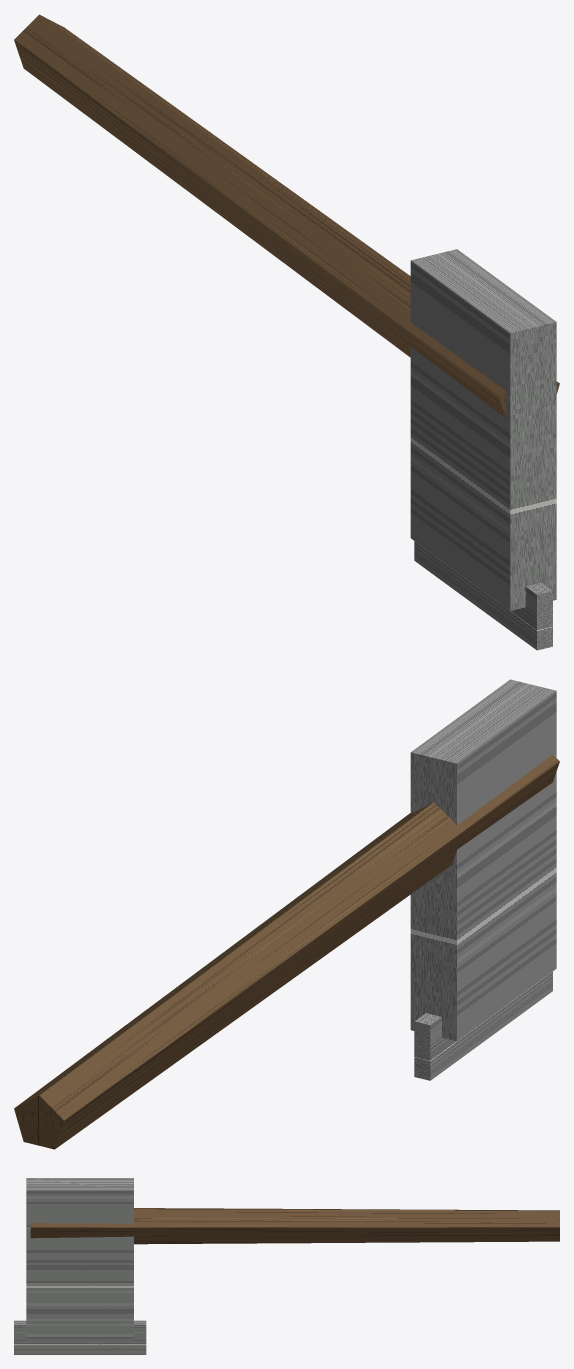
The model's file is tool-axe.glb.
3 renders of one model, top to bottom at view 1: azimuth 30°, elevation 25°; view 2: azimuth 150°, elevation 25°; view 3: azimuth 270°, elevation 25°, orthographic. The views are drawn at different scales.
Parts seen in each view (by area): view 1: axe; view 2: axe; view 3: axe.
Boxes of the visible parts, x1,y1,x2,y2 form: axe: (14, 14, 559, 650); axe: (14, 679, 559, 1149); axe: (14, 1178, 559, 1354).
Size of the model in its own units: 0.0457 by 0.225 by 0.66.
1 material, 1 textured.
